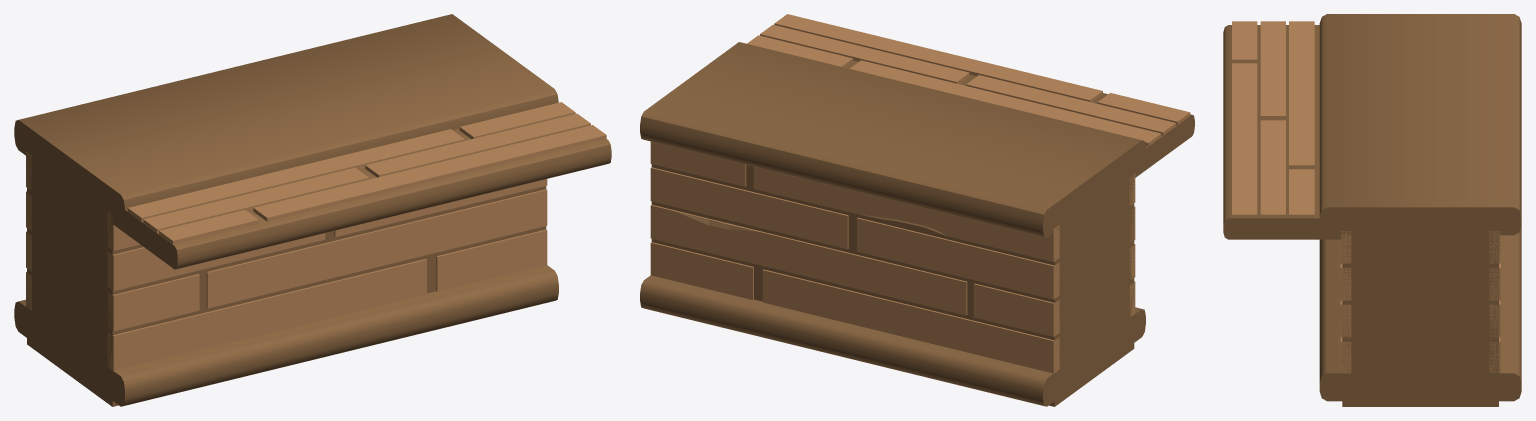
The model's file is counter-bar.glb.
The picture shows the model from 3 angles, left to right: view 1: azimuth 30°, elevation 25°; view 2: azimuth 150°, elevation 25°; view 3: azimuth 270°, elevation 25°; orthographic projection. The views are drawn at different scales.
Parts seen in each view (by area): view 1: Environment_Counter_Straight_2; view 2: Environment_Counter_Straight_2; view 3: Environment_Counter_Straight_2.
Boxes of the visible parts, left/top/right/bottom form: Environment_Counter_Straight_2: left=14, top=14, right=611, bottom=406; Environment_Counter_Straight_2: left=640, top=14, right=1194, bottom=406; Environment_Counter_Straight_2: left=1223, top=14, right=1521, bottom=406.
Size of the model in its own units: 4 by 1.92 by 2.61.
